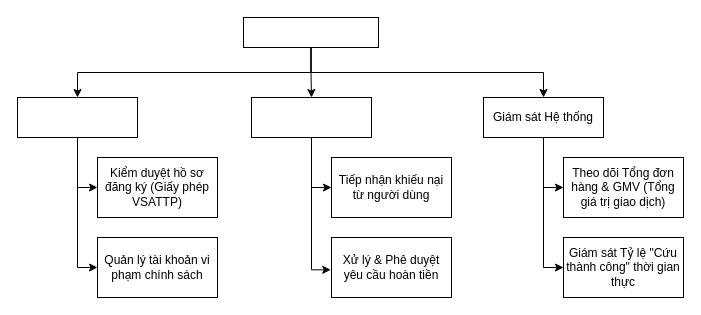
Some shapes in this 701 by 315 pixel diagram are drawn without their labels. The centre of each missing label's shape, as x and y in pixels:
Giải quyết Tranh chấp: the point at 311,117
Quản lý Đối tác & Người dùng: the point at 77,117
Quản trị viên: the point at 310,32
